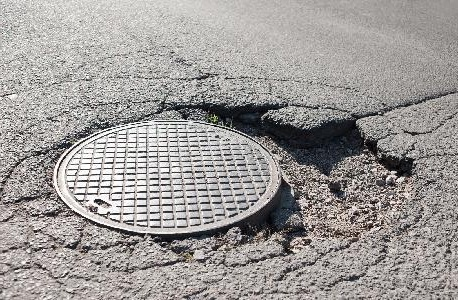pothole: (191, 95, 421, 251)
